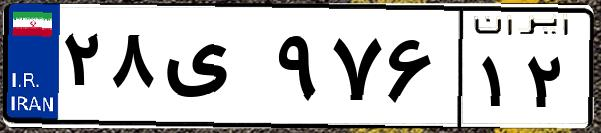1: (475, 38, 525, 113)
2: (57, 26, 110, 100), (525, 38, 570, 115)
6: (385, 28, 445, 110)
7: (330, 28, 385, 110)
8: (110, 28, 158, 98)
9: (270, 28, 330, 110)
ی: (158, 20, 270, 120)
